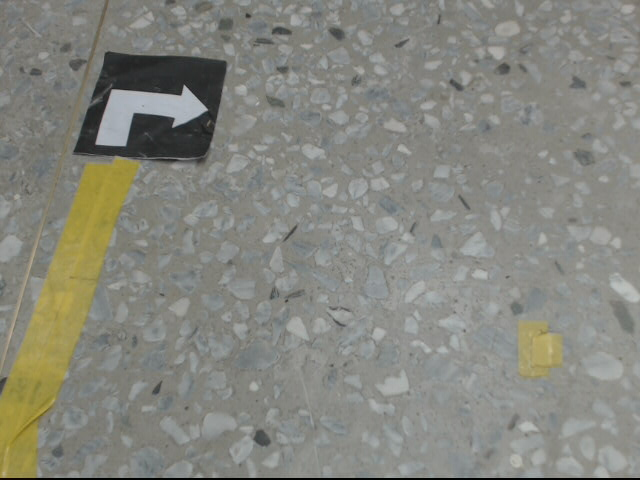right: (74, 48, 228, 164)
